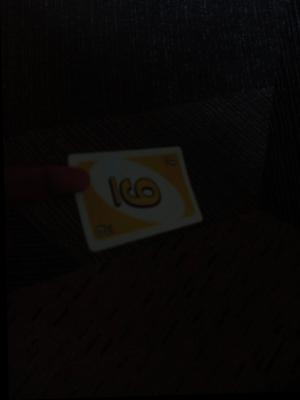num_9: (101, 168, 173, 224)
